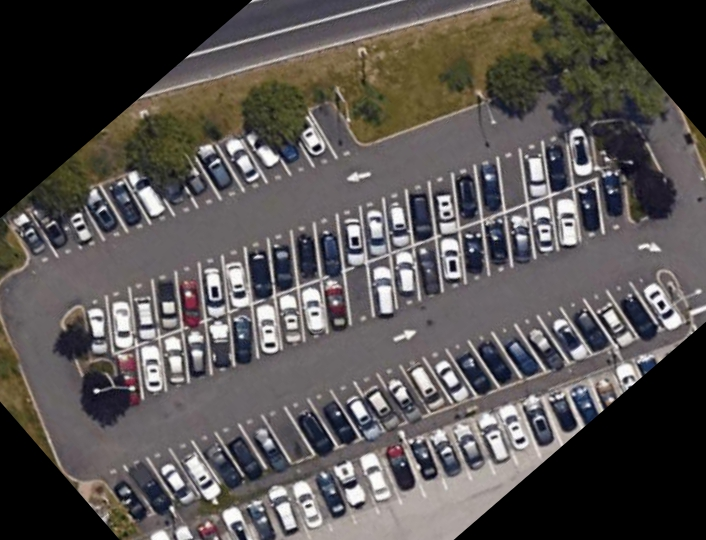parkingspot: (79, 117, 632, 421), (91, 270, 689, 528), (131, 341, 682, 540), (0, 98, 367, 269)
